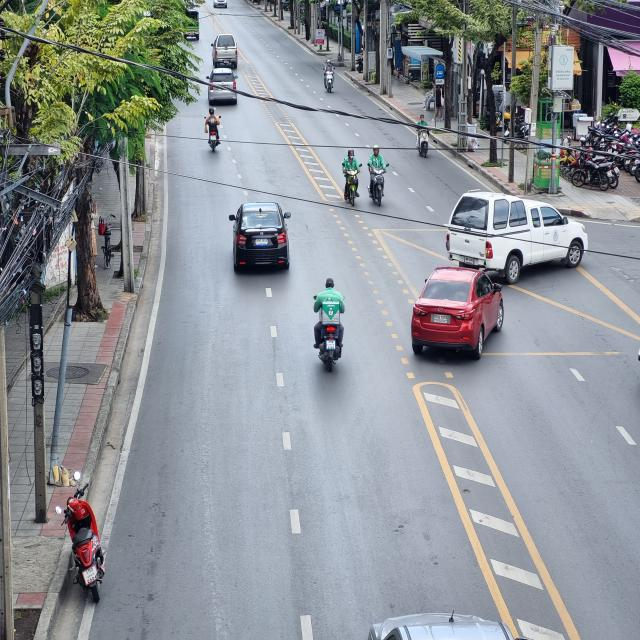license_plate: (82, 564, 100, 586), (431, 314, 451, 324), (464, 255, 475, 266), (326, 340, 336, 350), (256, 238, 268, 246), (210, 135, 216, 141), (223, 60, 229, 64)
